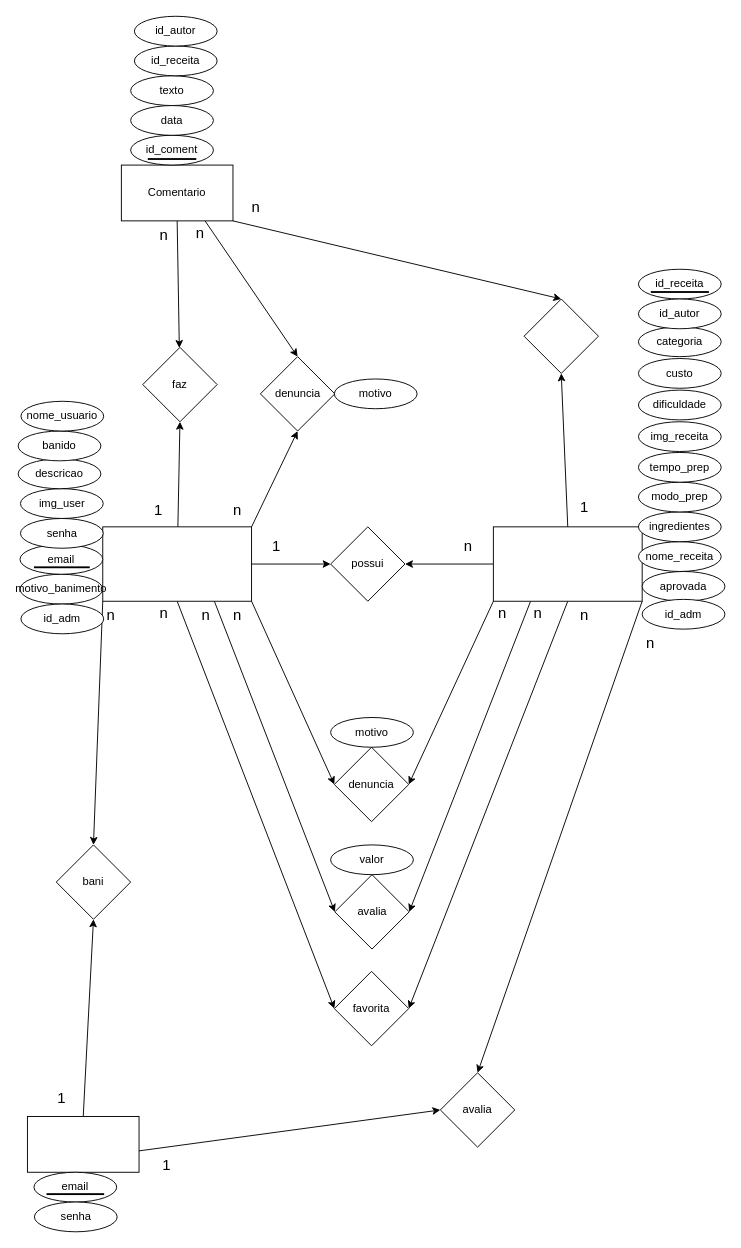
The diagram is 741 pixels wide and 1248 high, and some of its shapes have lost their labels. The centre of each missing label's shape, as x and y in pixels:
"Adm" belongs at point (83, 1144).
"Receita" belongs at point (567, 563).
"tem" belongs at point (560, 335).
"Usuario" belongs at point (177, 563).
